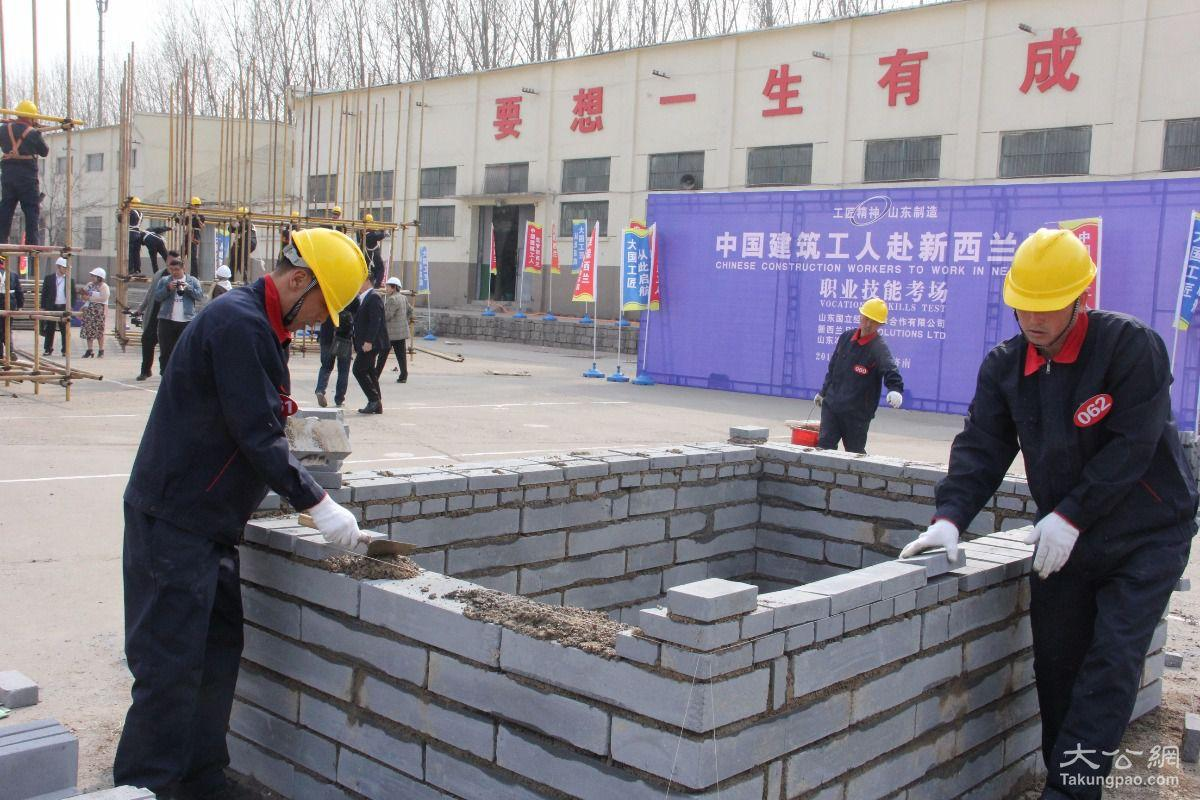helmet: (1001, 224, 1099, 316), (292, 229, 372, 327), (859, 297, 891, 325), (17, 100, 44, 124), (389, 274, 406, 297), (59, 256, 77, 276), (91, 267, 110, 282), (330, 204, 349, 216), (195, 196, 209, 212), (364, 211, 379, 225), (132, 197, 146, 211), (239, 205, 252, 220), (290, 207, 302, 221)
